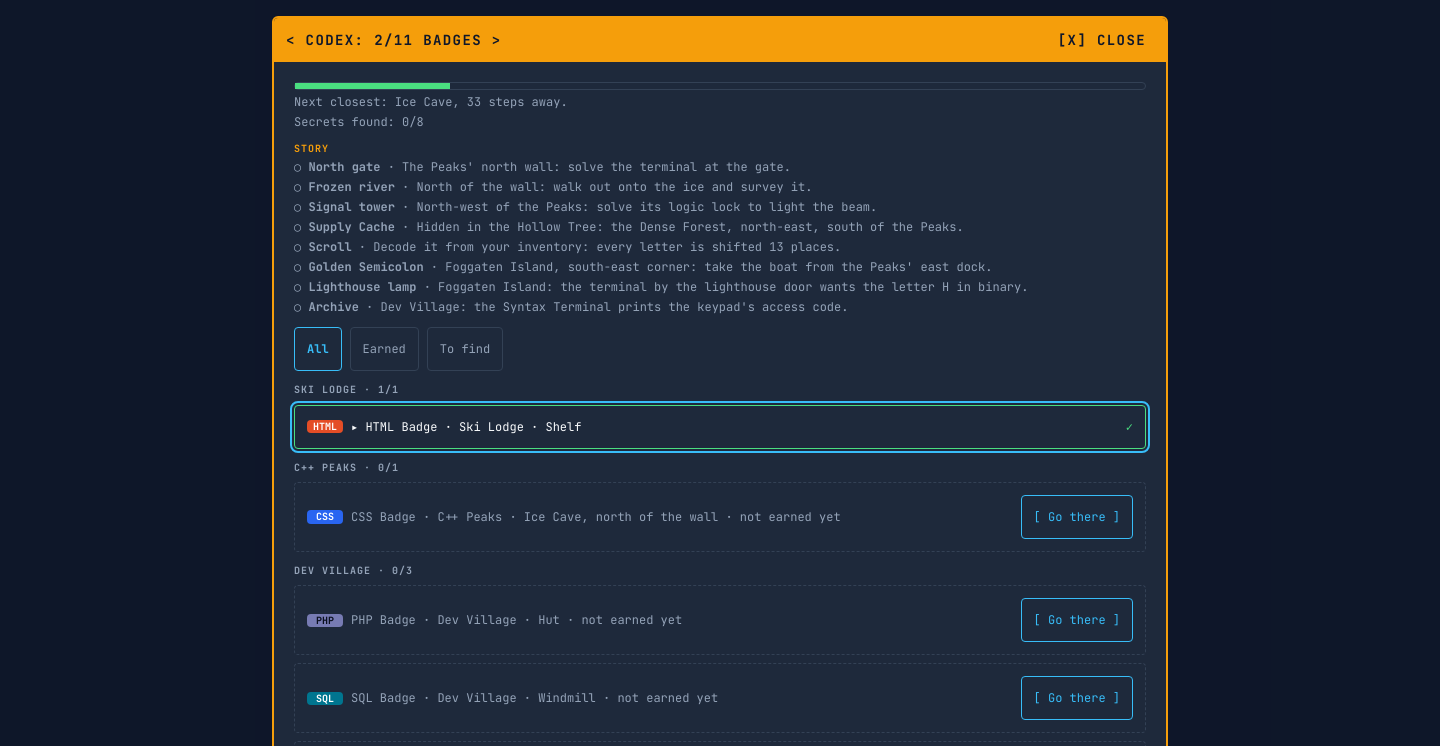
Test case: Codex › filters: All, Earned and To find, dropping empty zones
Click the button "Earned".
click(384, 349)  # box left=350, top=327, right=419, bottom=371
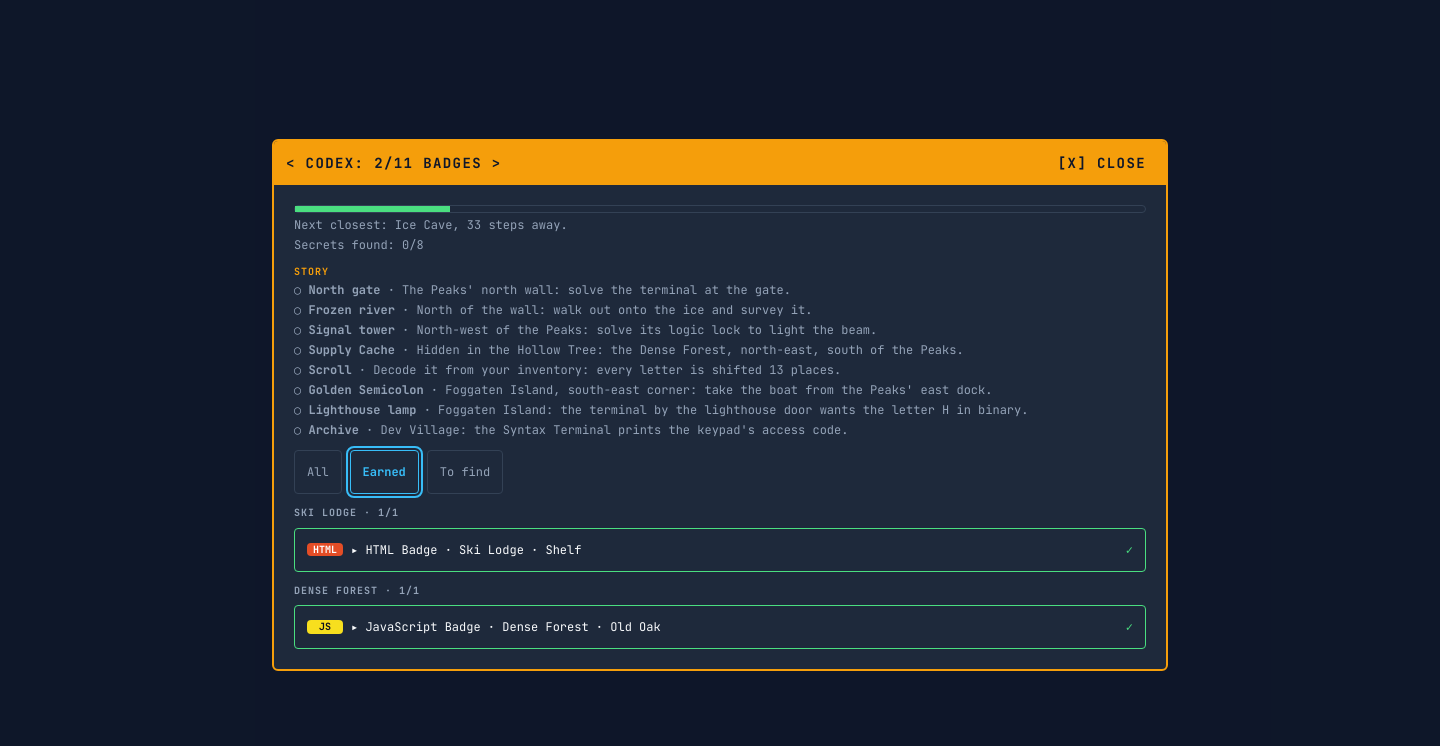
Expected: the element "Dense Forest" is shown, left=294, top=584, right=1146, bottom=649
Click the button "To find".
click(465, 472)  # box left=427, top=450, right=503, bottom=494
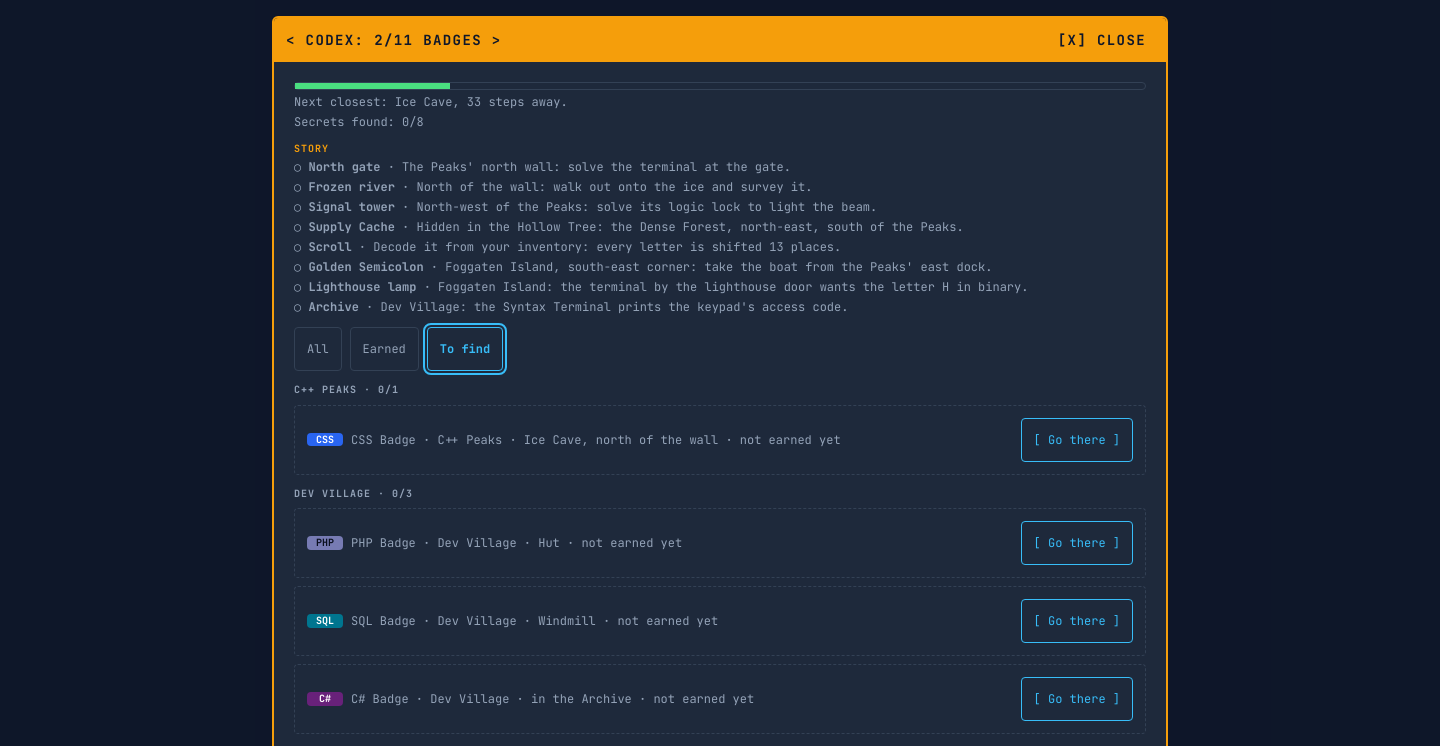
Expected: the element "Dev Village" is shown, left=294, top=487, right=1146, bottom=734
